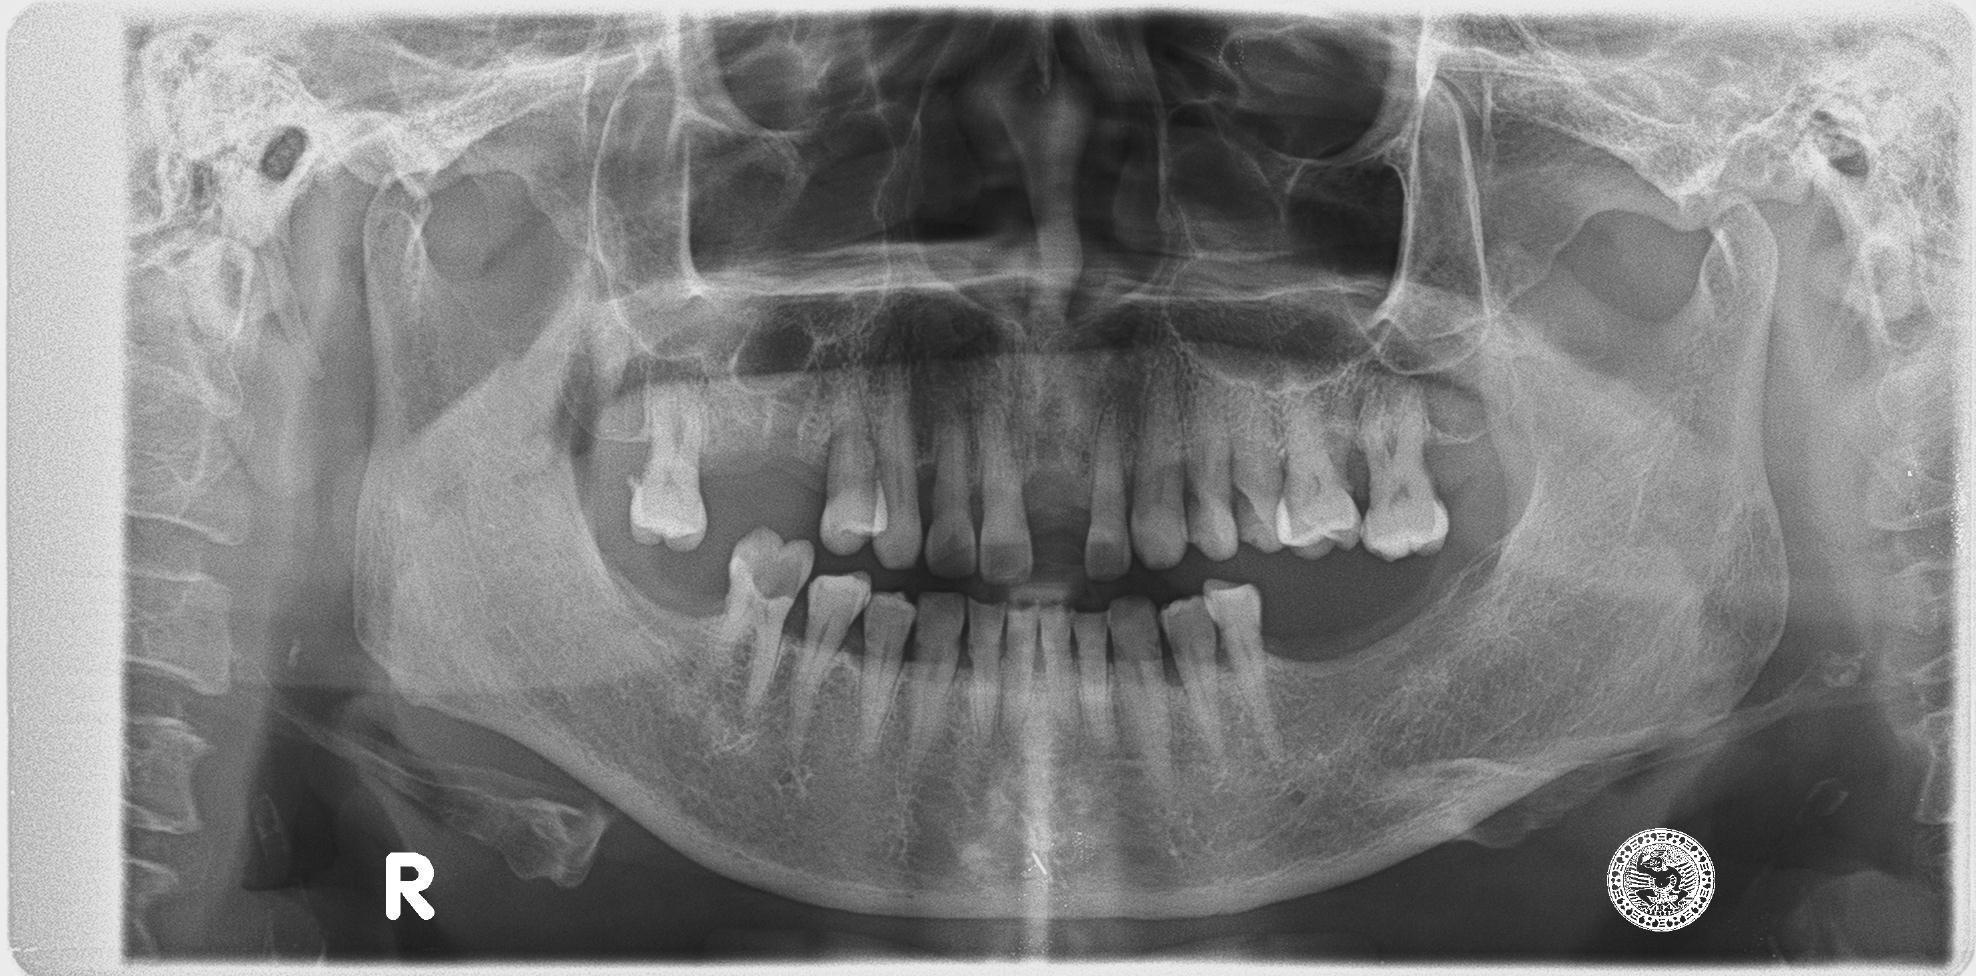Individual Tooth: (720, 530, 814, 712), (1269, 376, 1360, 559), (786, 574, 870, 762), (1358, 386, 1448, 560), (1203, 580, 1285, 763), (1129, 349, 1188, 567), (630, 385, 706, 550), (819, 371, 887, 554), (1182, 366, 1241, 559), (1106, 598, 1171, 772), (1159, 586, 1225, 757), (905, 591, 967, 760), (975, 401, 1032, 583), (871, 367, 921, 569), (926, 383, 978, 578), (1227, 380, 1285, 552), (1084, 400, 1132, 579), (859, 593, 916, 741), (1072, 613, 1115, 754), (1038, 608, 1080, 749), (1003, 608, 1041, 745), (967, 601, 1006, 731)
